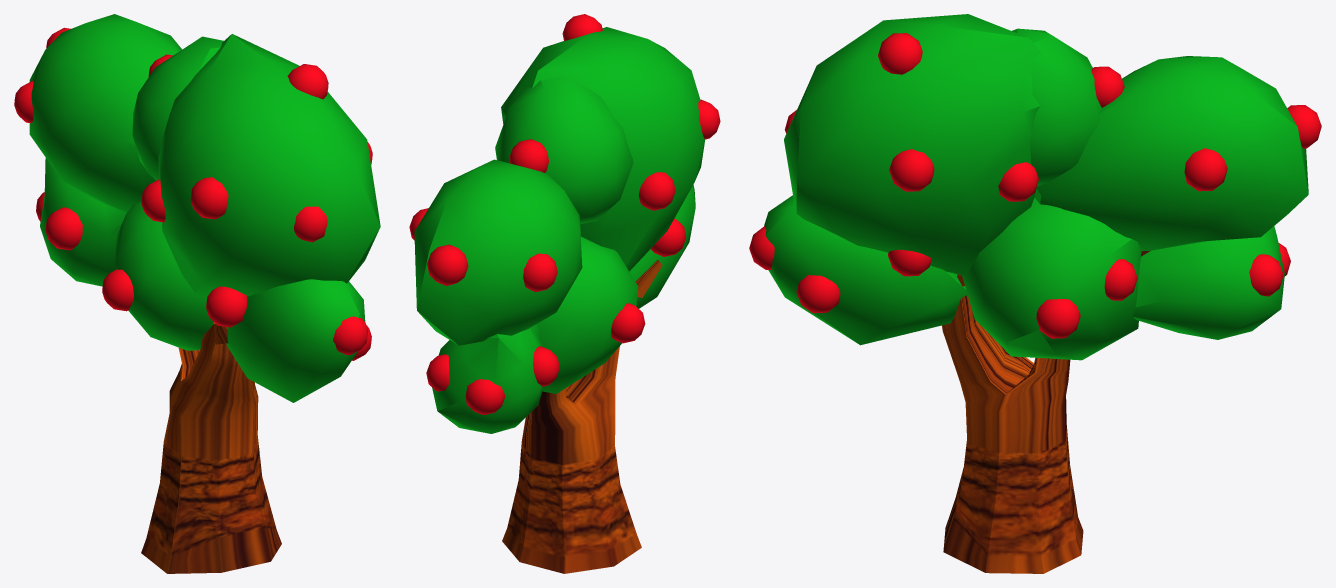
The model's file is darahtBeta.glb.
3 views of the same model, side by side, from view 1: azimuth 30°, elevation 25°; view 2: azimuth 150°, elevation 25°; view 3: azimuth 270°, elevation 25° (orthographic). The views are drawn at different scales.
Visible parts, largest first — view 1: daraht; view 2: daraht; view 3: daraht.
Part boxes in pixels (x1=…): daraht: x1=14, y1=14, x2=380, y2=573; daraht: x1=409, y1=14, x2=720, y2=573; daraht: x1=749, y1=14, x2=1321, y2=573.
Size of the model in its own units: 2.94 by 7.17 by 7.01.
Materials: 3 (1 with a texture image).
